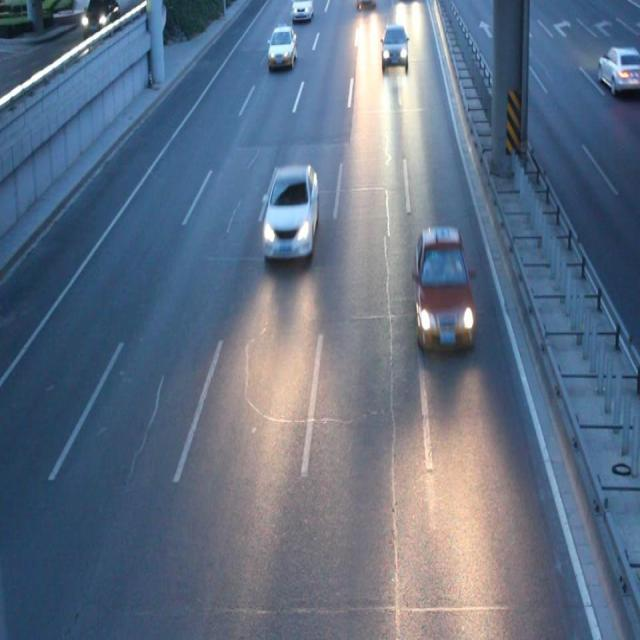car: (409, 228, 474, 353), (263, 164, 318, 260), (380, 26, 408, 72), (268, 26, 296, 68), (292, 1, 313, 22)
